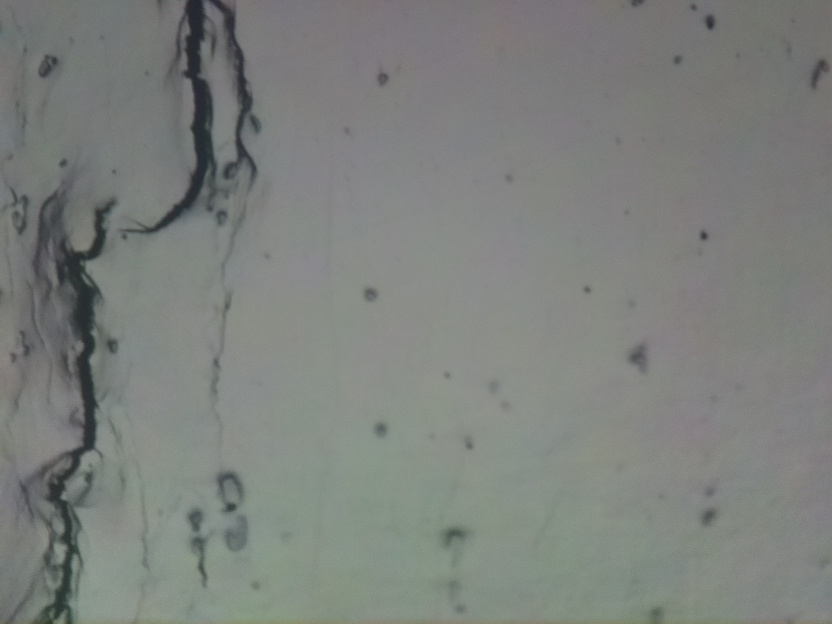crack: (35, 197, 119, 624), (123, 0, 262, 231)
